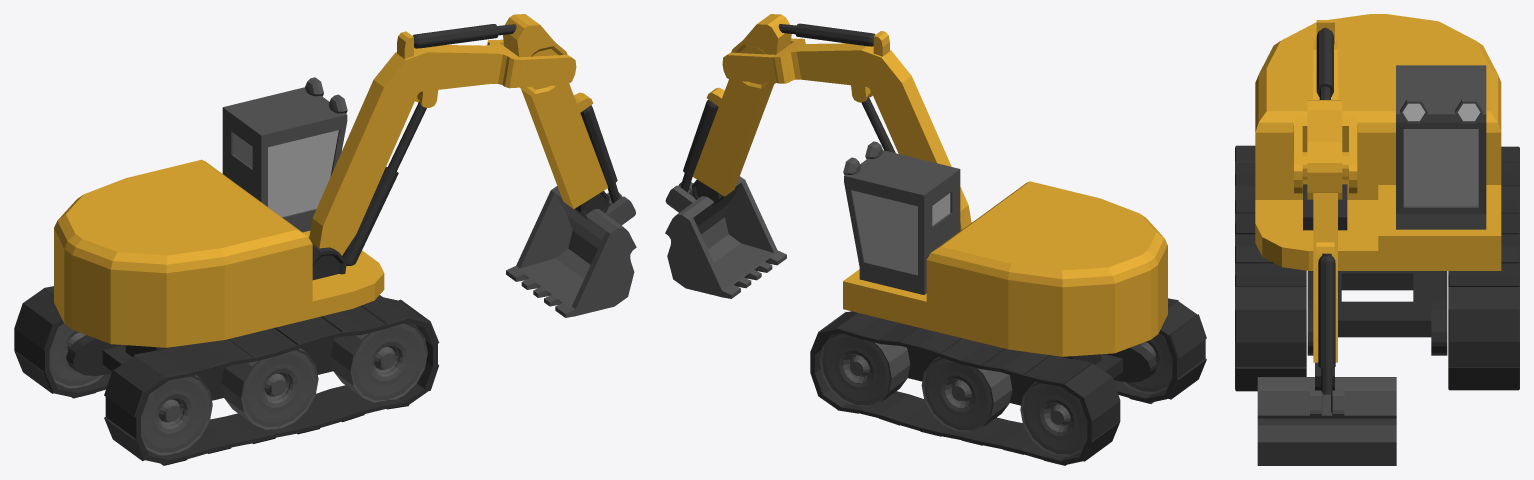
3 views of the same model, side by side, from view 1: azimuth 30°, elevation 25°; view 2: azimuth 150°, elevation 25°; view 3: azimuth 270°, elevation 25° (orthographic). The views are drawn at different scales.
Visible parts, largest first — view 1: C-10, Plane.004, Cube.068, Cube.061, Cube.067, Cylinder.069, Cylinder.071, Cylinder.070, Plane.005, Cube.060, Cube.064, Cylinder.067 (+3 smaller); view 2: C-10, Plane.005, Cube.068, Cube.061, Cube.067, Cylinder.066, Cylinder.068, Cylinder.067, Plane.004, Cube.060, Cylinder.070, Cube.063 (+2 smaller); view 3: C-10, Cube.061, Plane.005, Plane.004, Cube.060, Cube.067, Cube.068, Cube.066, Cube.063, Cube.069.
Boxes of the visible parts, x1=… form: C-10: x1=54, y1=77, x2=384, y2=347; Plane.004: x1=104, y1=295, x2=439, y2=465; Cube.068: x1=309, y1=31, x2=576, y2=255; Cube.061: x1=506, y1=186, x2=636, y2=317; Cube.067: x1=503, y1=14, x2=608, y2=208; Cylinder.069: x1=330, y1=323, x2=427, y2=402; Cylinder.071: x1=221, y1=348, x2=318, y2=429; Cylinder.070: x1=141, y1=375, x2=212, y2=455; Plane.005: x1=14, y1=286, x2=110, y2=398; Cube.060: x1=66, y1=335, x2=334, y2=400; Cube.064: x1=342, y1=101, x2=426, y2=265; Cylinder.067: x1=49, y1=323, x2=103, y2=388; C-10: x1=843, y1=141, x2=1167, y2=356; Plane.005: x1=810, y1=311, x2=1120, y2=465; Cube.068: x1=722, y1=31, x2=971, y2=230; Cube.061: x1=665, y1=176, x2=786, y2=298; Cube.067: x1=692, y1=14, x2=791, y2=196; Cylinder.066: x1=819, y1=333, x2=910, y2=407; Cylinder.068: x1=921, y1=357, x2=1012, y2=432; Cylinder.067: x1=1020, y1=382, x2=1087, y2=456; Plane.004: x1=1113, y1=298, x2=1206, y2=403; Cube.060: x1=906, y1=344, x2=1156, y2=405; Cylinder.070: x1=1122, y1=333, x2=1172, y2=393; Cube.063: x1=778, y1=23, x2=875, y2=46; C-10: x1=1255, y1=14, x2=1501, y2=270; Cube.061: x1=1257, y1=377, x2=1396, y2=465; Plane.005: x1=1448, y1=146, x2=1519, y2=390; Plane.004: x1=1235, y1=145, x2=1306, y2=391; Cube.060: x1=1307, y1=271, x2=1447, y2=355; Cube.067: x1=1302, y1=100, x2=1348, y2=362; Cube.068: x1=1293, y1=20, x2=1357, y2=193; Cube.066: x1=1318, y1=253, x2=1335, y2=394; Cube.063: x1=1316, y1=27, x2=1333, y2=99; Cube.069: x1=1303, y1=184, x2=1347, y2=230.
Size of the model in its own units: 2716 by 1616 by 1065.
